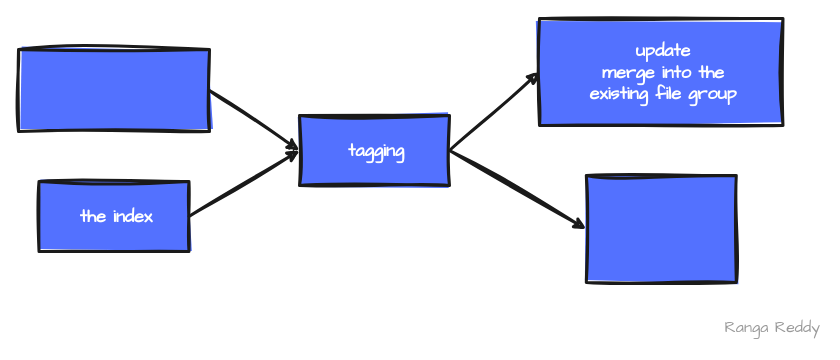
Image size: 840x360. Some labels were removed from this diagram. Each missing label, with the centre of its shape:
"incoming batch of records" belongs at (x=113, y=90).
"insert into a new file slice" belongs at (x=660, y=229).
